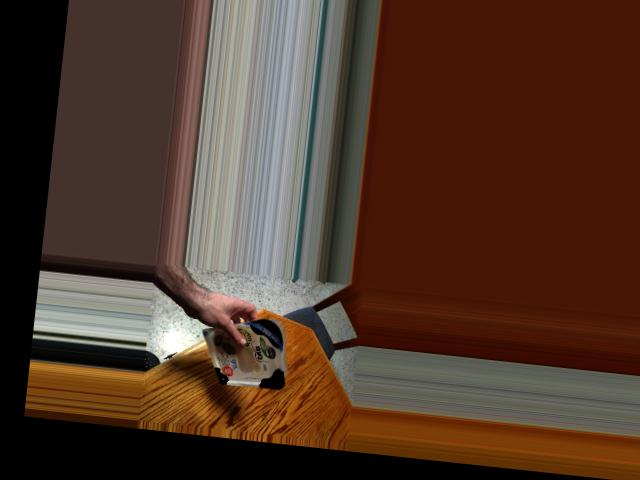cheese: (204, 324, 292, 384)
